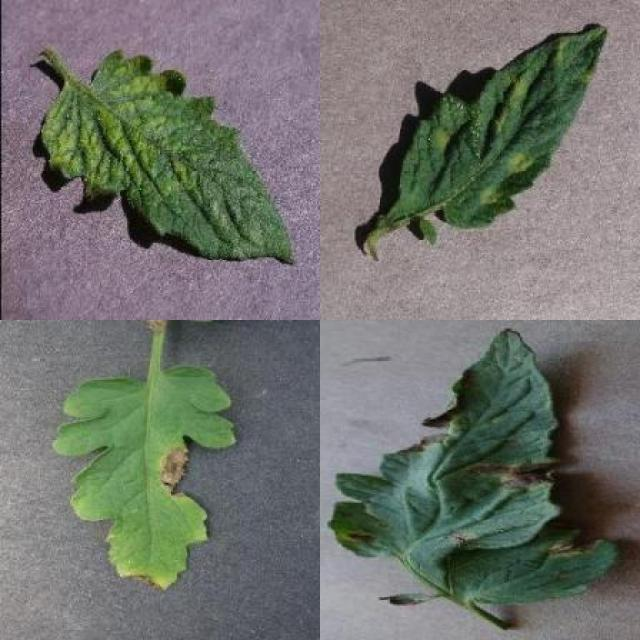Early Blight: (329, 329, 621, 604)
Late Blight: (54, 368, 236, 595)
Leaf Mold: (399, 24, 607, 229)
Mosaic Virus: (41, 49, 296, 265)
